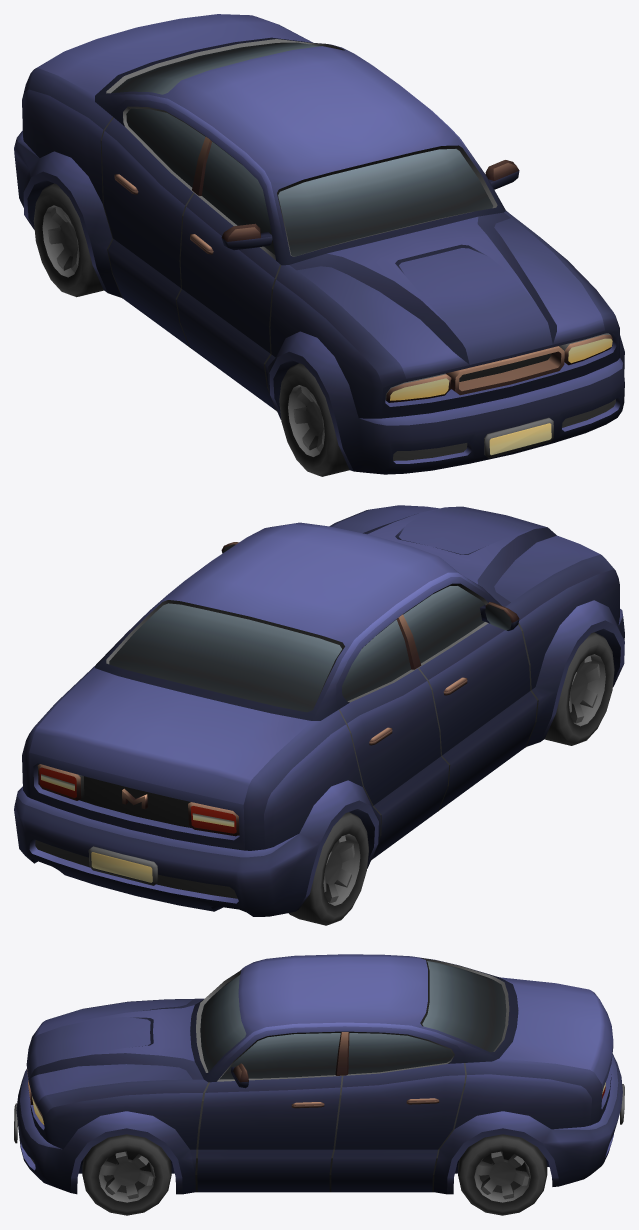
Rendered from Car_6E.fbx.
The picture shows the model from 3 angles, top to bottom: view 1: azimuth 30°, elevation 25°; view 2: azimuth 150°, elevation 25°; view 3: azimuth 270°, elevation 25°; orthographic projection. The views are drawn at different scales.
Parts seen in each view (by area): view 1: Car_6E, Wheel_6E_F.R, Wheel_6E_R.R; view 2: Car_6E, Wheel_6E_R.R, Wheel_6E_F.R; view 3: Car_6E, Wheel_6E_F.L, Wheel_6E_R.L.
Part boxes in pixels (x1,y1,x2,y2): Car_6E: (14, 14, 624, 474); Wheel_6E_F.R: (279, 363, 349, 476); Wheel_6E_R.R: (33, 183, 103, 297); Car_6E: (14, 505, 624, 916); Wheel_6E_R.R: (288, 812, 368, 925); Wheel_6E_F.R: (544, 632, 614, 745); Car_6E: (14, 954, 624, 1194); Wheel_6E_F.L: (82, 1134, 171, 1215); Wheel_6E_R.L: (458, 1134, 547, 1215).
Bounding box in the file's own units: 246 × 193 × 580.
